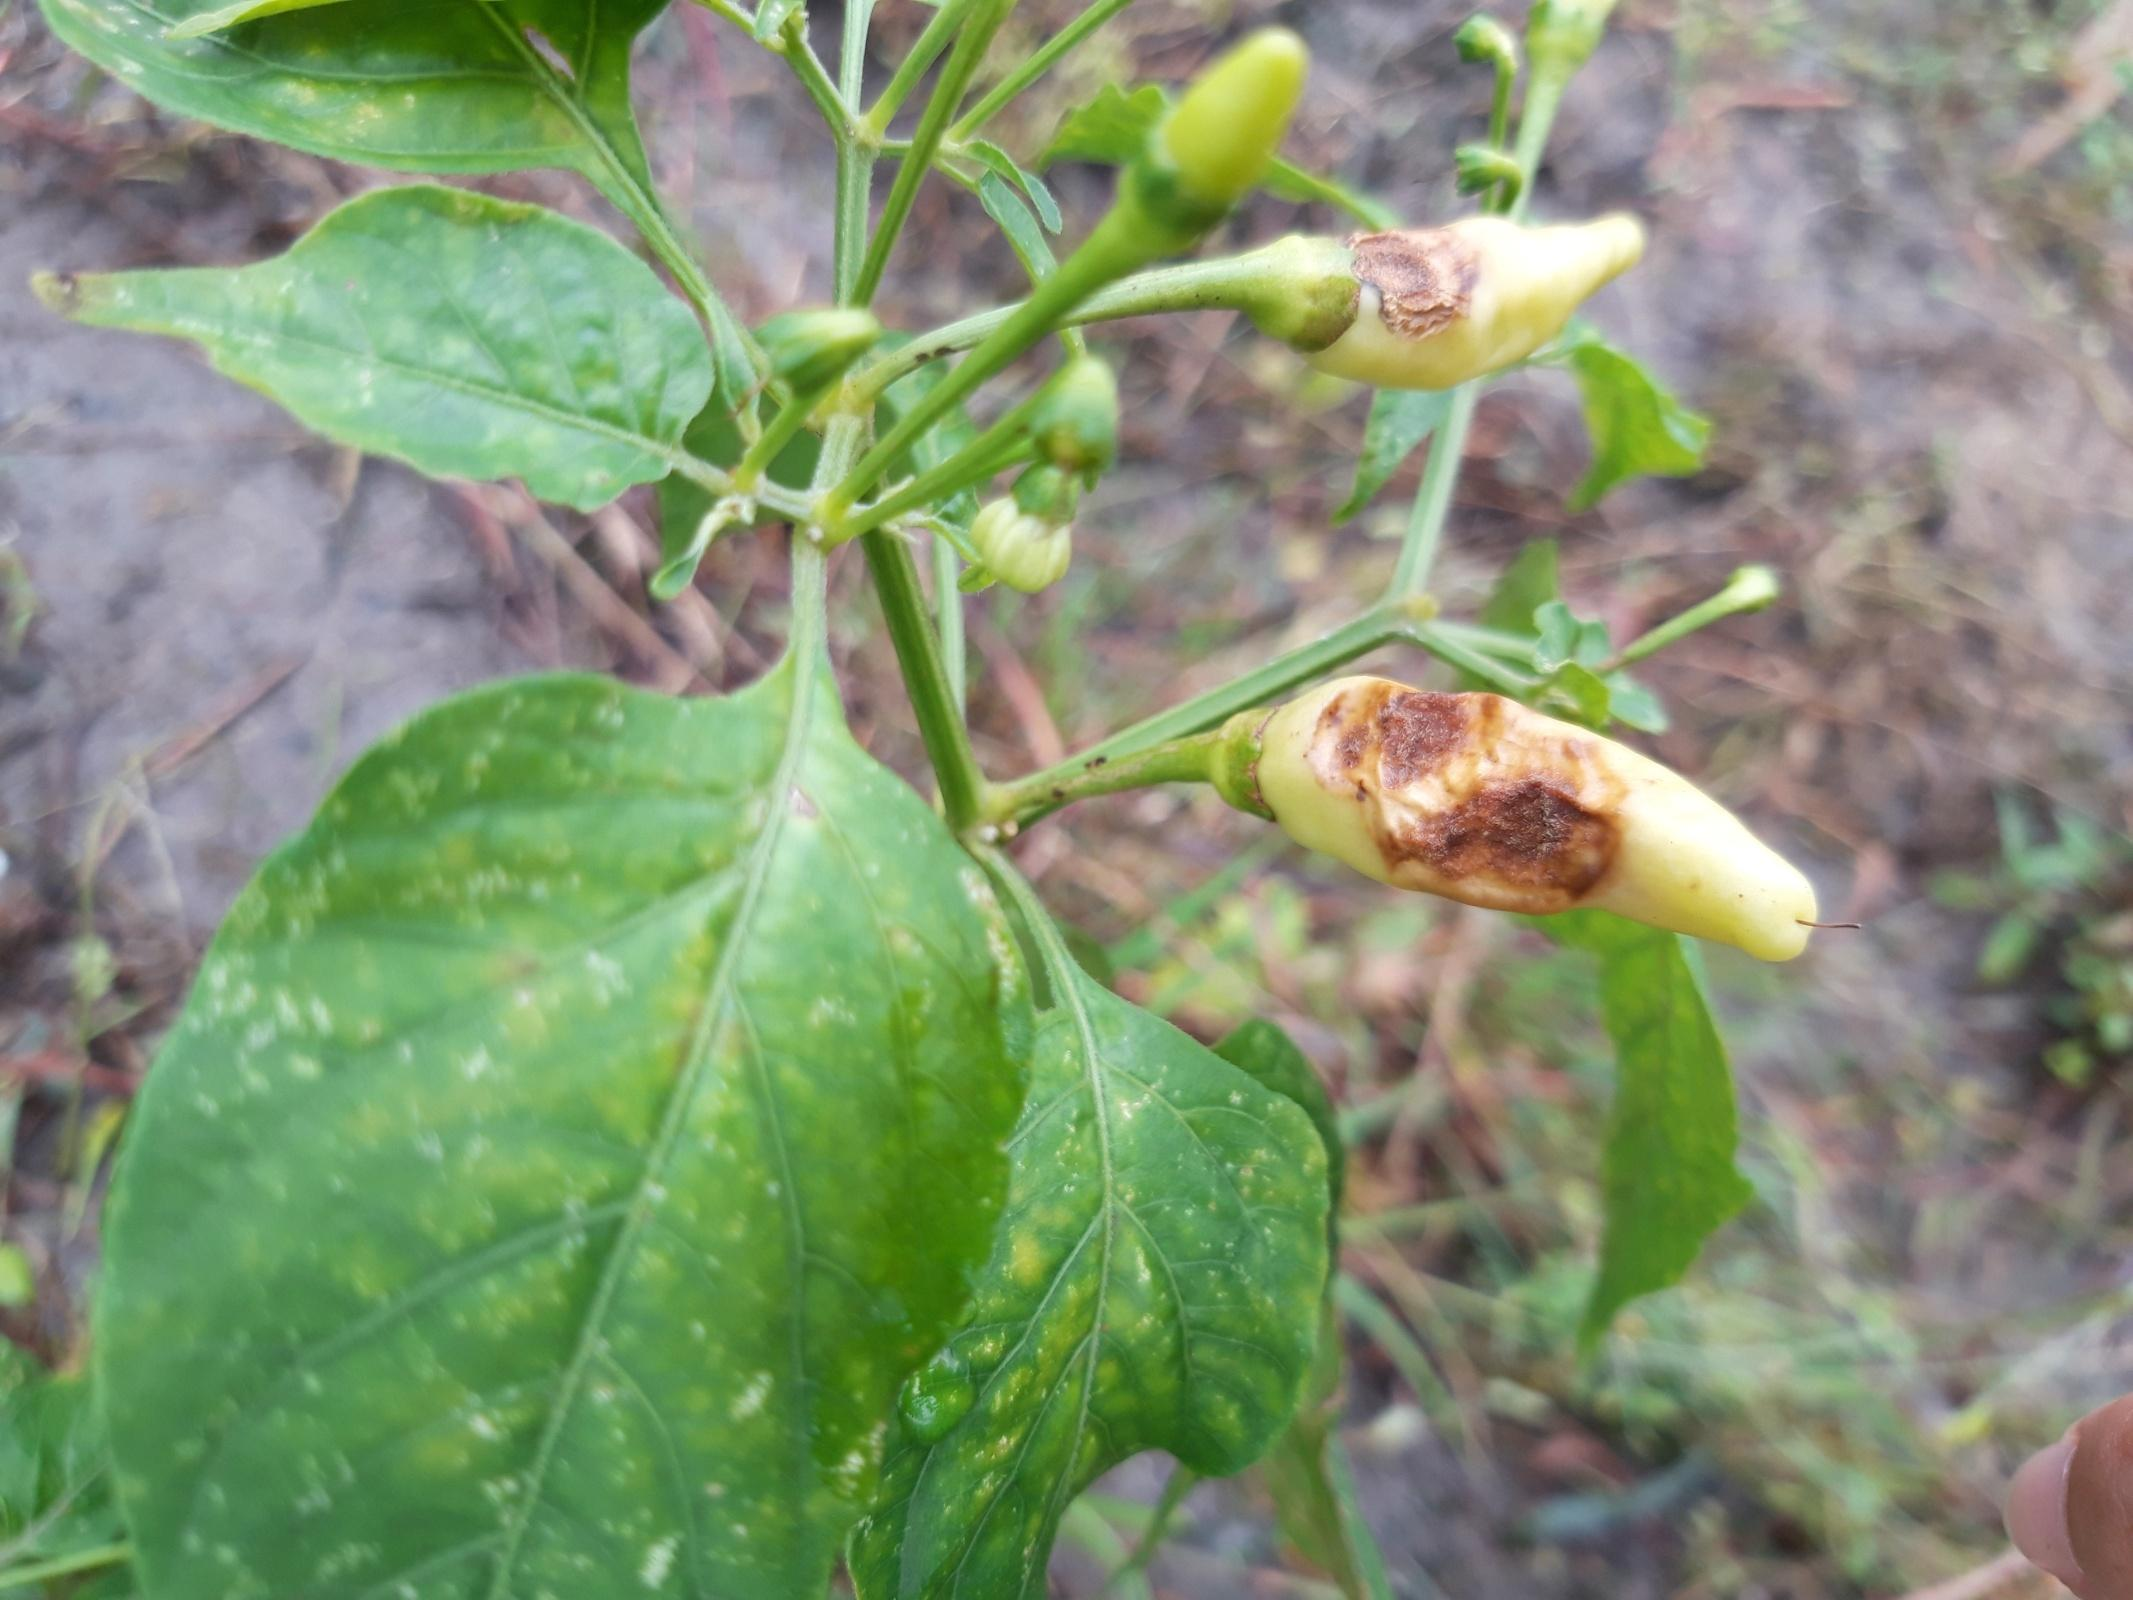antraknosa: (1239, 679, 1817, 961), (1316, 207, 1647, 402)
